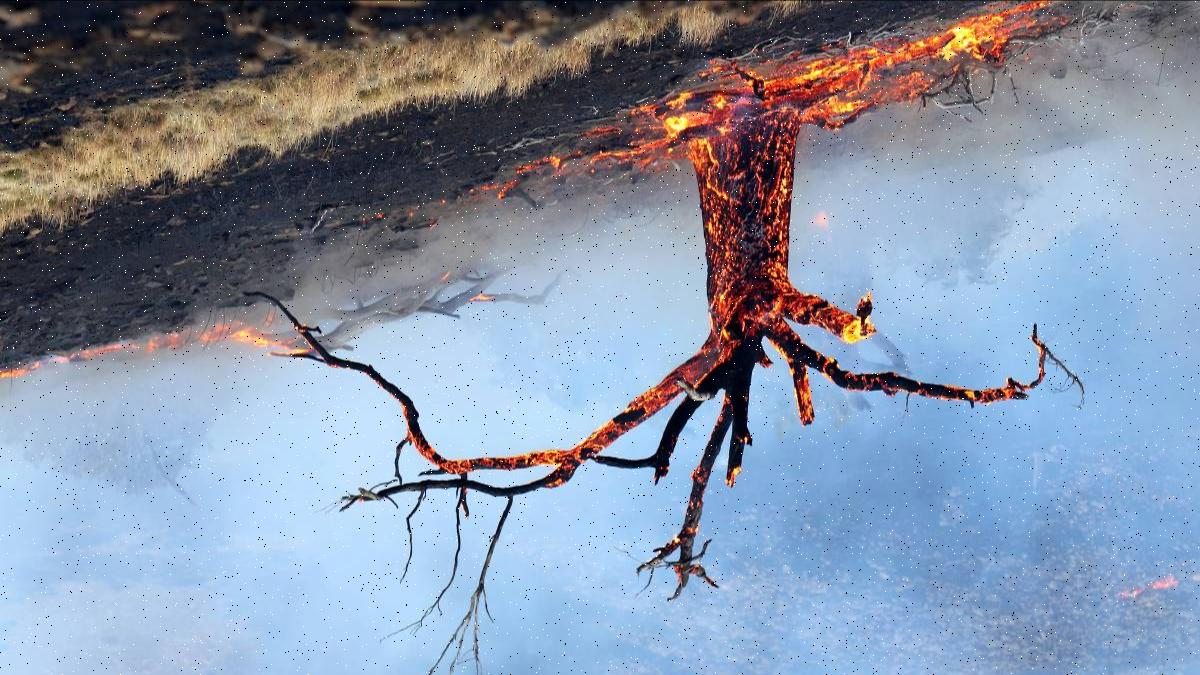fire: (438, 2, 1093, 476), (0, 278, 333, 391)
